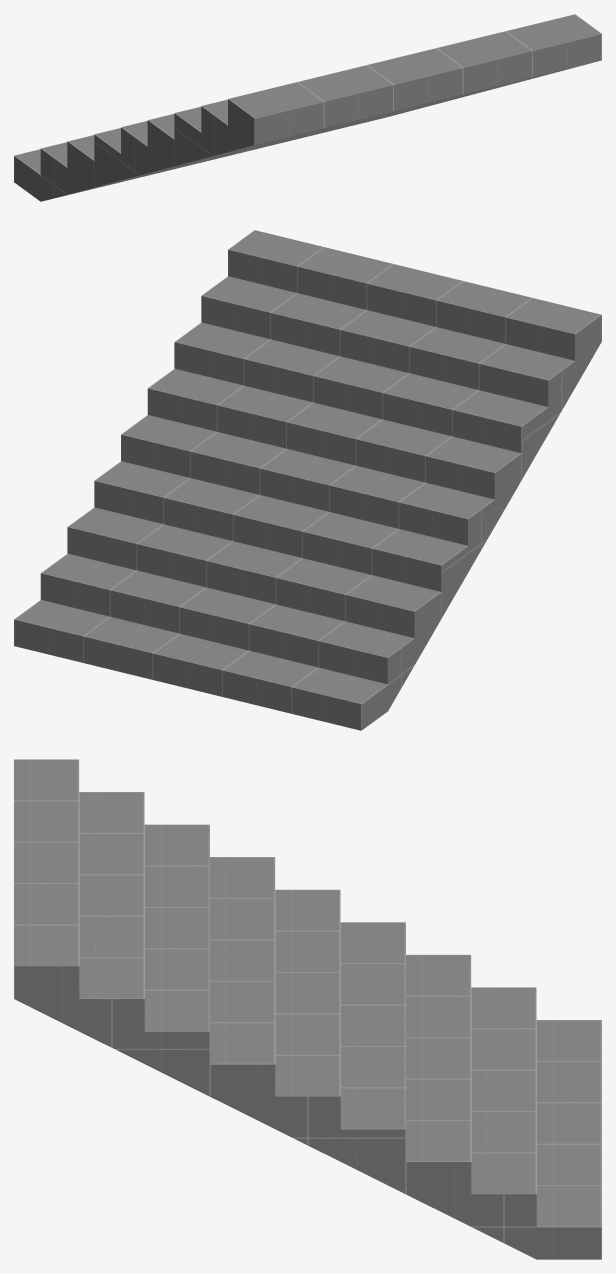
File: Stairs_Closed_Big.fbx
3 renders of one model, top to bottom at view 1: azimuth 30°, elevation 25°; view 2: azimuth 150°, elevation 25°; view 3: azimuth 270°, elevation 25°, orthographic. The views are drawn at different scales.
Visible parts, largest first — view 1: Stairs_Closed_Big; view 2: Stairs_Closed_Big; view 3: Stairs_Closed_Big.
Boxes of the visible parts, x1=… form: Stairs_Closed_Big: x1=14, y1=14, x2=601, y2=201; Stairs_Closed_Big: x1=14, y1=230, x2=601, y2=730; Stairs_Closed_Big: x1=14, y1=759, x2=601, y2=1259.
Bounding box in the file's own units: 7.39 × 4.88 × 8.87.
